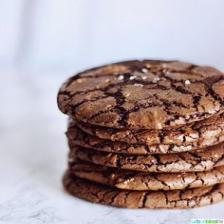brown: (88, 110, 121, 127)
